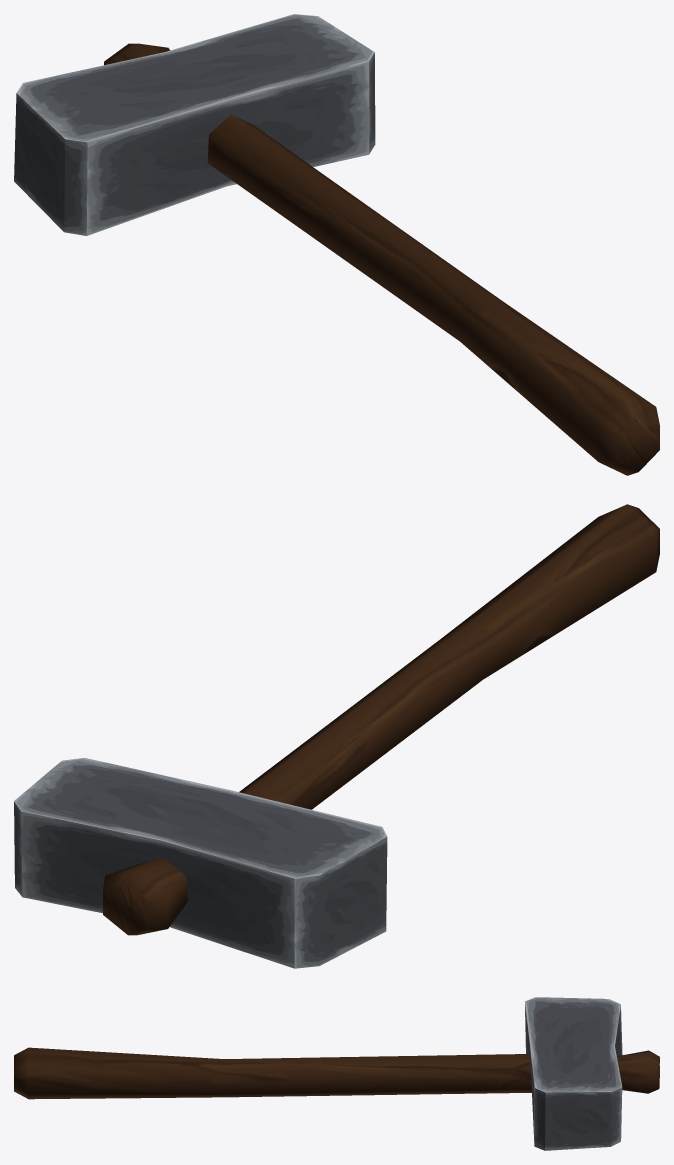
The model's file is SM_PROP_hammer_city_01.fbx.
The picture shows the model from 3 angles, top to bottom: view 1: azimuth 30°, elevation 25°; view 2: azimuth 150°, elevation 25°; view 3: azimuth 270°, elevation 25°; orthographic projection. The views are drawn at different scales.
Visible parts, largest first — view 1: SM_PROP_hammer_city_01; view 2: SM_PROP_hammer_city_01; view 3: SM_PROP_hammer_city_01.
Boxes of the visible parts, bbox=[...] form: SM_PROP_hammer_city_01: bbox=[14, 14, 659, 475]; SM_PROP_hammer_city_01: bbox=[14, 504, 659, 968]; SM_PROP_hammer_city_01: bbox=[14, 997, 659, 1150].
Size of the model in its own units: 33.5 by 9.97 by 93.32.
